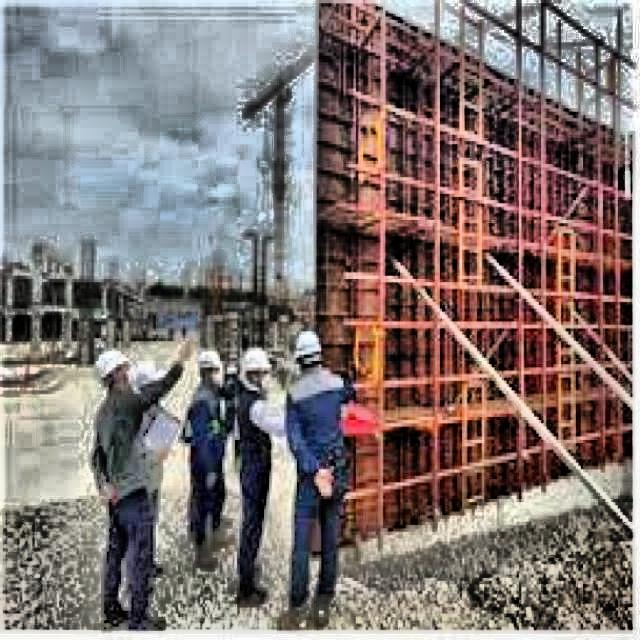bull_dozer/loader/grader: (242, 43, 319, 297)
person: (92, 336, 198, 630), (276, 329, 355, 630), (235, 348, 288, 608), (184, 348, 236, 570), (129, 358, 166, 596), (220, 363, 242, 475)
